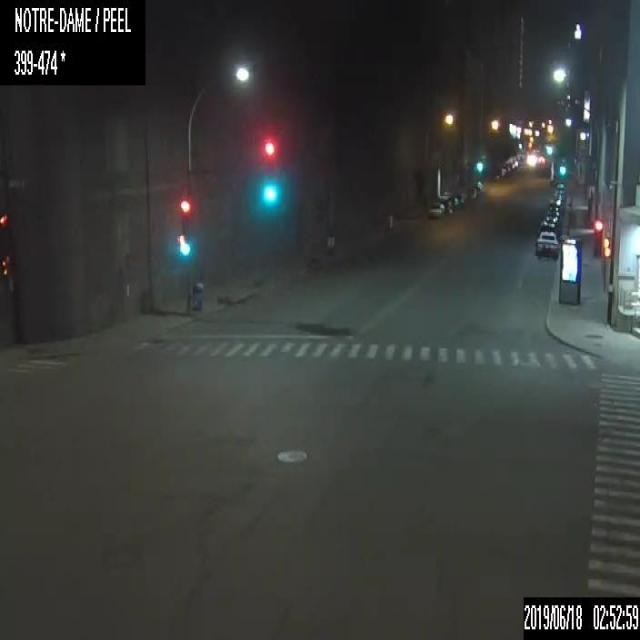vehicle: (535, 231, 560, 259), (437, 194, 454, 217), (537, 220, 558, 236), (428, 202, 444, 218), (464, 186, 479, 202), (452, 190, 465, 208), (544, 200, 560, 212), (544, 211, 560, 222), (536, 154, 544, 162)
